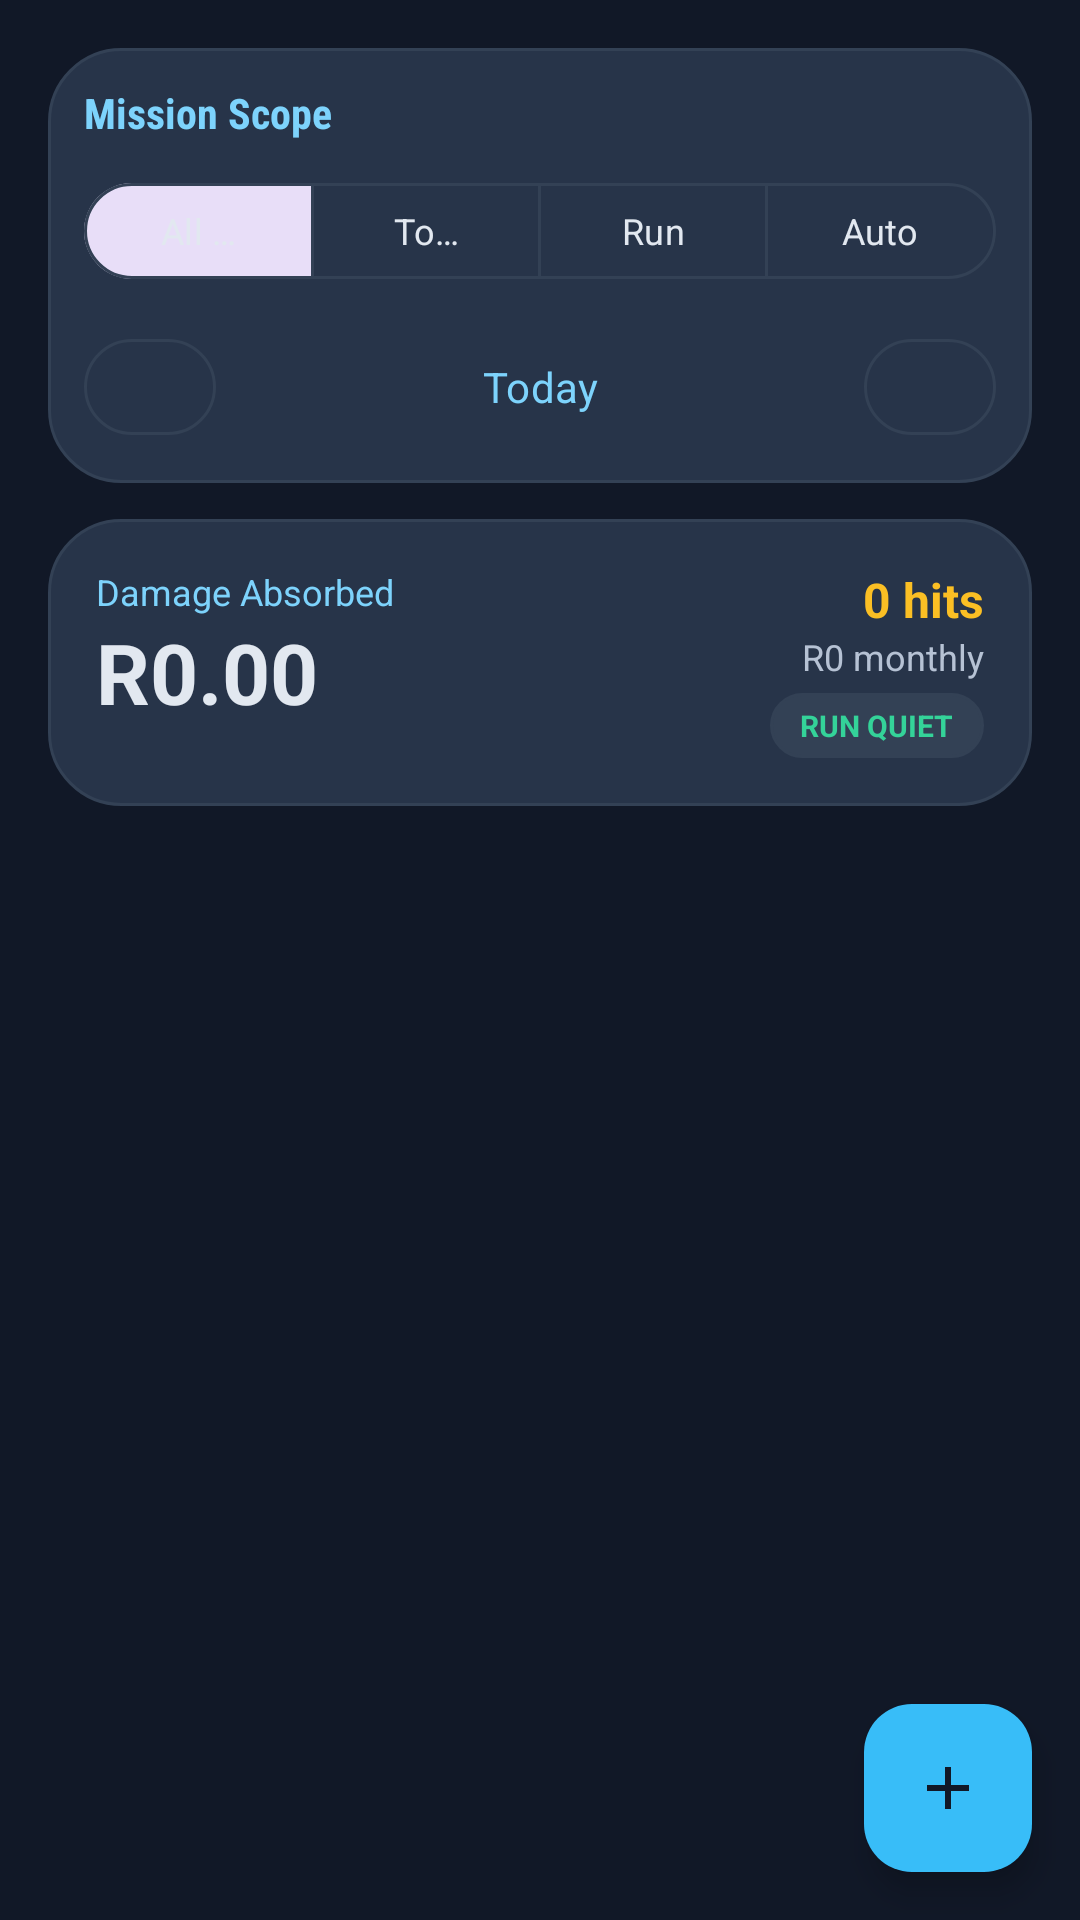

Locate icon controls on the screen. Image size 1080w x 1920h, boxes as (x1, y1, x2, y2).
Add Expense: (864, 1704, 1032, 1872)
